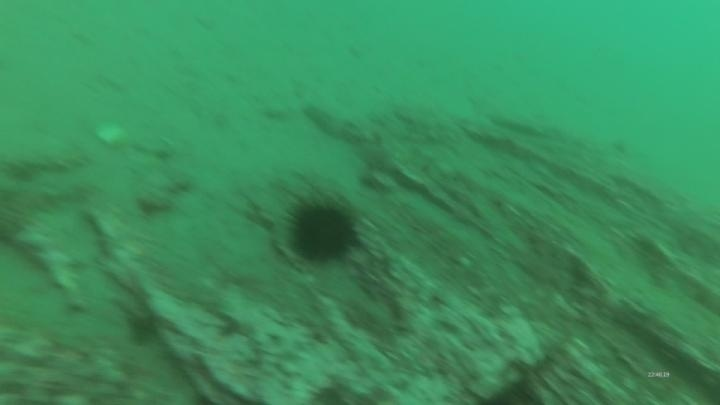echinus: (281, 190, 364, 268)
